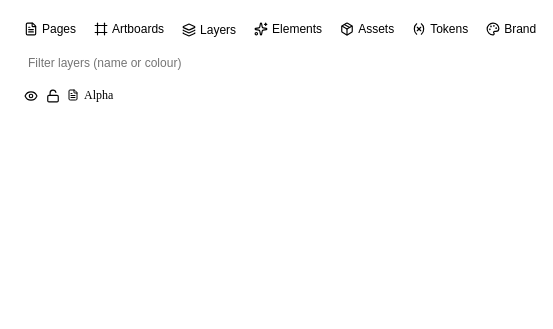
Test: LeftPanel › right-click context menu (Phase D) › opens a context menu with the standard action set on right-click
Right-click the text "Alpha" at (73, 95), box [16,82,260,108]
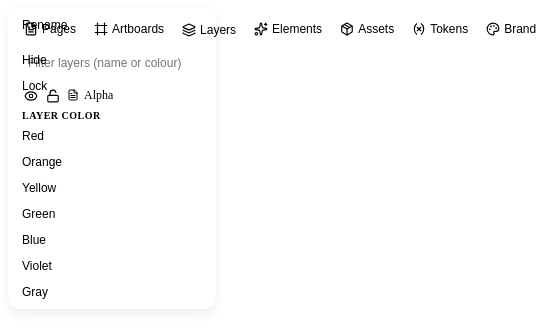
Expected: the menu item with test id "ctx-rename" is shown, [12,12,212,38]
Expected: the menu item with test id "ctx-visibility" is shown, [12,47,212,73]
Expected: the menu item with test id "ctx-lock" is shown, [12,73,212,99]
